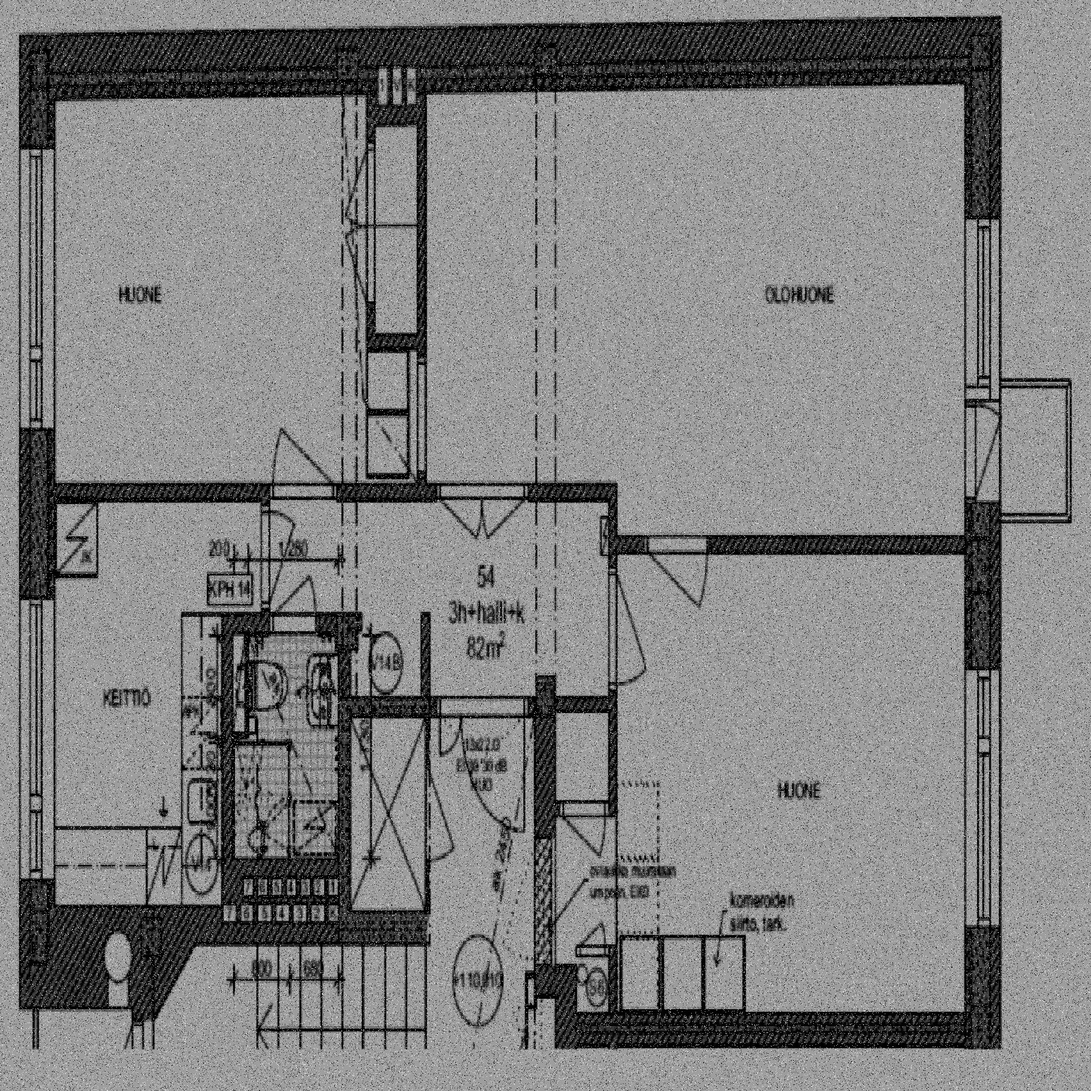wall: (19, 36, 999, 99), (965, 36, 999, 1048), (19, 36, 54, 944), (555, 1013, 999, 1048), (18, 908, 350, 944), (19, 485, 617, 500), (609, 534, 999, 555), (221, 858, 338, 909), (536, 695, 555, 1000), (338, 696, 555, 716), (220, 612, 232, 943), (418, 36, 426, 500), (338, 696, 350, 944), (221, 613, 350, 634), (609, 485, 617, 817), (368, 36, 376, 349), (555, 965, 577, 1048), (368, 96, 426, 125), (231, 634, 246, 733), (536, 965, 578, 1000), (536, 801, 617, 817), (262, 484, 269, 634), (420, 614, 430, 716), (338, 612, 350, 696), (555, 696, 617, 711), (368, 334, 426, 349), (609, 947, 616, 1048), (575, 947, 616, 960)
